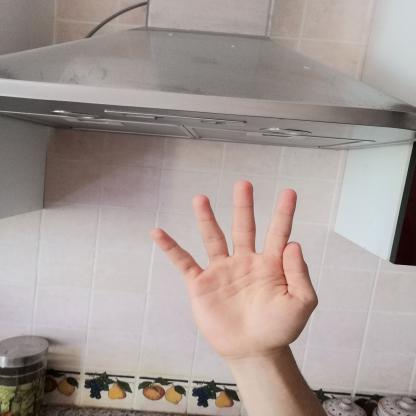SHEEN: (135, 172, 332, 366)
